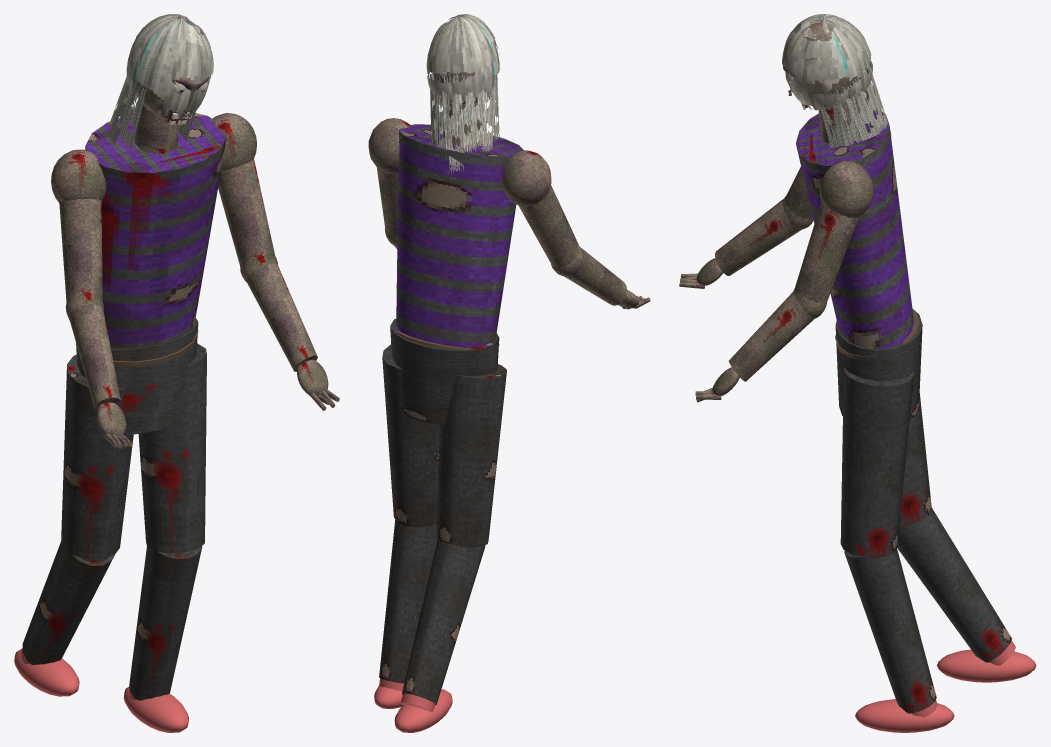
File: Zombie_029.glb
The picture shows the model from 3 angles, left to right: view 1: azimuth 30°, elevation 25°; view 2: azimuth 150°, elevation 25°; view 3: azimuth 270°, elevation 25°; orthographic projection. The views are drawn at different scales.
Parts seen in each view (by area): view 1: Zombie_029, object 10, object 42, object 3, object 43, object 11, object 16, object 53, object 4, object 52; view 2: Zombie_029, object 43, object 3, object 49, object 42, object 50, object 51, object 48, object 52; view 3: Zombie_029, object 43, object 10, object 3, object 42, object 16, object 44, object 46, object 45.
Boxes of the visible parts, bbox=[...] form: Zombie_029: bbox=[14, 105, 275, 732]; object 10: bbox=[246, 262, 317, 371]; object 42: bbox=[138, 14, 213, 83]; object 3: bbox=[69, 304, 121, 411]; object 43: bbox=[126, 15, 209, 119]; object 11: bbox=[297, 359, 328, 395]; object 16: bbox=[134, 75, 208, 122]; object 53: bbox=[118, 81, 146, 151]; object 4: bbox=[97, 402, 126, 436]; object 52: bbox=[107, 81, 139, 145]; Zombie_029: bbox=[368, 102, 580, 732]; object 43: bbox=[426, 19, 499, 105]; object 3: bbox=[565, 248, 626, 305]; object 49: bbox=[441, 73, 464, 174]; object 42: bbox=[432, 14, 499, 75]; object 50: bbox=[454, 73, 475, 152]; object 51: bbox=[468, 74, 487, 148]; object 48: bbox=[434, 73, 450, 160]; object 52: bbox=[480, 75, 496, 151]; Zombie_029: bbox=[785, 103, 1036, 732]; object 43: bbox=[786, 16, 872, 110]; object 10: bbox=[729, 292, 814, 381]; object 3: bbox=[715, 199, 801, 275]; object 42: bbox=[782, 14, 853, 81]; object 16: bbox=[783, 22, 860, 109]; object 44: bbox=[819, 90, 850, 147]; object 46: bbox=[843, 78, 879, 140]; object 45: bbox=[835, 83, 864, 145].
Bounding box in the file's own units: 0.6565 × 1.98 × 0.9128.
16 materials, 6 textured.
